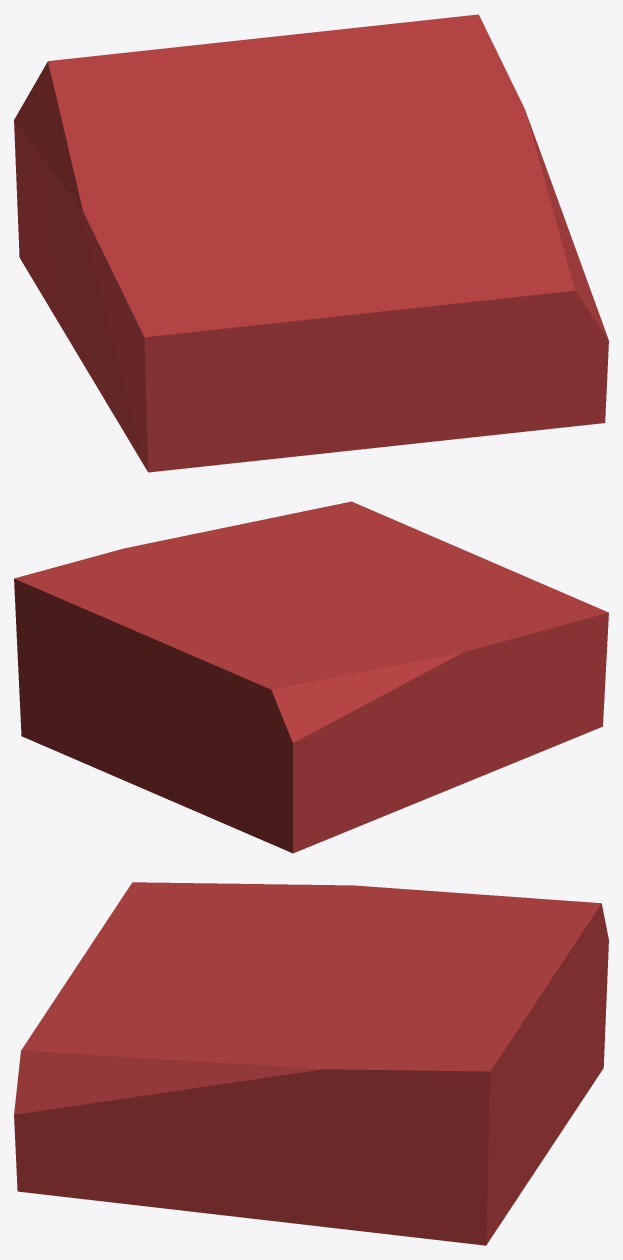
The model's file is ea_arch_wall03_rubble_01b_pre__15__lev1.glb.
The picture shows the model from 3 angles, top to bottom: view 1: azimuth 30°, elevation 25°; view 2: azimuth 150°, elevation 25°; view 3: azimuth 270°, elevation 25°; orthographic projection. The views are drawn at different scales.
Visible parts, largest first — view 1: ea_arch_wall03_rubble_01b_pre__15__lev1; view 2: ea_arch_wall03_rubble_01b_pre__15__lev1; view 3: ea_arch_wall03_rubble_01b_pre__15__lev1.
Boxes of the visible parts, <box> form: ea_arch_wall03_rubble_01b_pre__15__lev1: <box>14,14,608,472</box>; ea_arch_wall03_rubble_01b_pre__15__lev1: <box>14,501,608,853</box>; ea_arch_wall03_rubble_01b_pre__15__lev1: <box>14,882,608,1245</box>.
Size of the model in its own units: 0.5181 by 0.1798 by 0.5449.
1 material, 1 textured.
